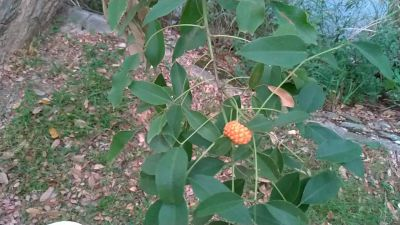eggs: (224, 118, 252, 145)
